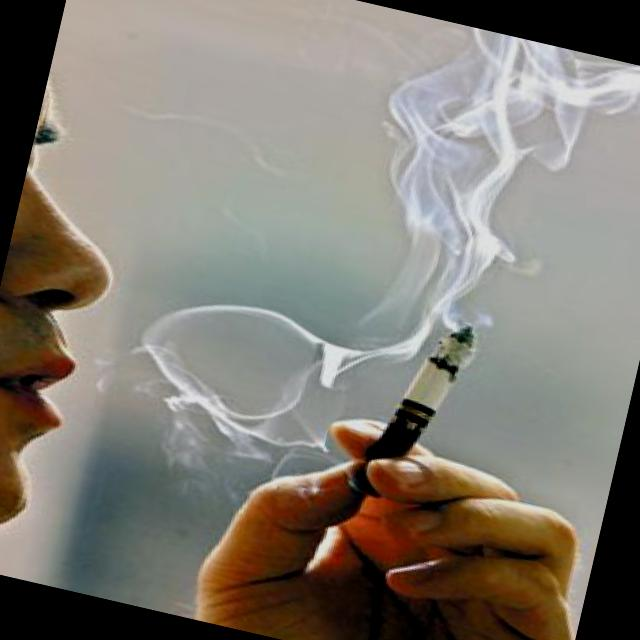cigarette: (398, 310, 484, 411)
